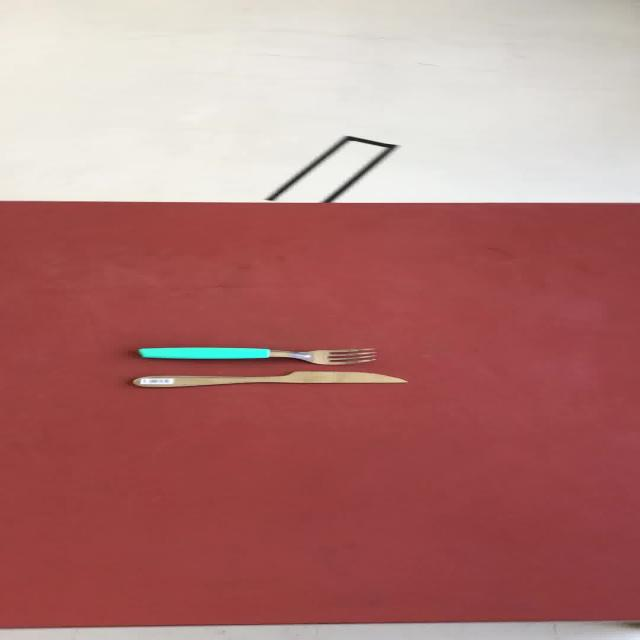fork: (136, 346, 377, 365)
knife fork: (131, 370, 407, 388), (136, 346, 378, 365)
